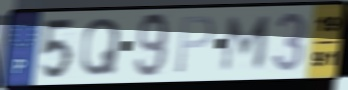3: (270, 10, 308, 75)
5: (36, 16, 78, 81)
9: (132, 11, 171, 81)
M: (218, 15, 274, 74)
P: (173, 14, 217, 77)
Q: (78, 16, 123, 79)
